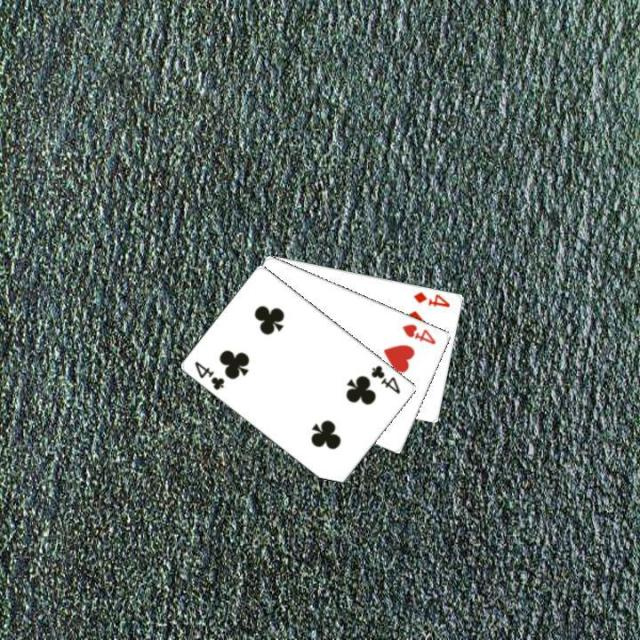4C: (191, 357, 227, 392), (367, 361, 403, 395)
4D: (410, 287, 452, 309)
4H: (398, 320, 438, 347)
